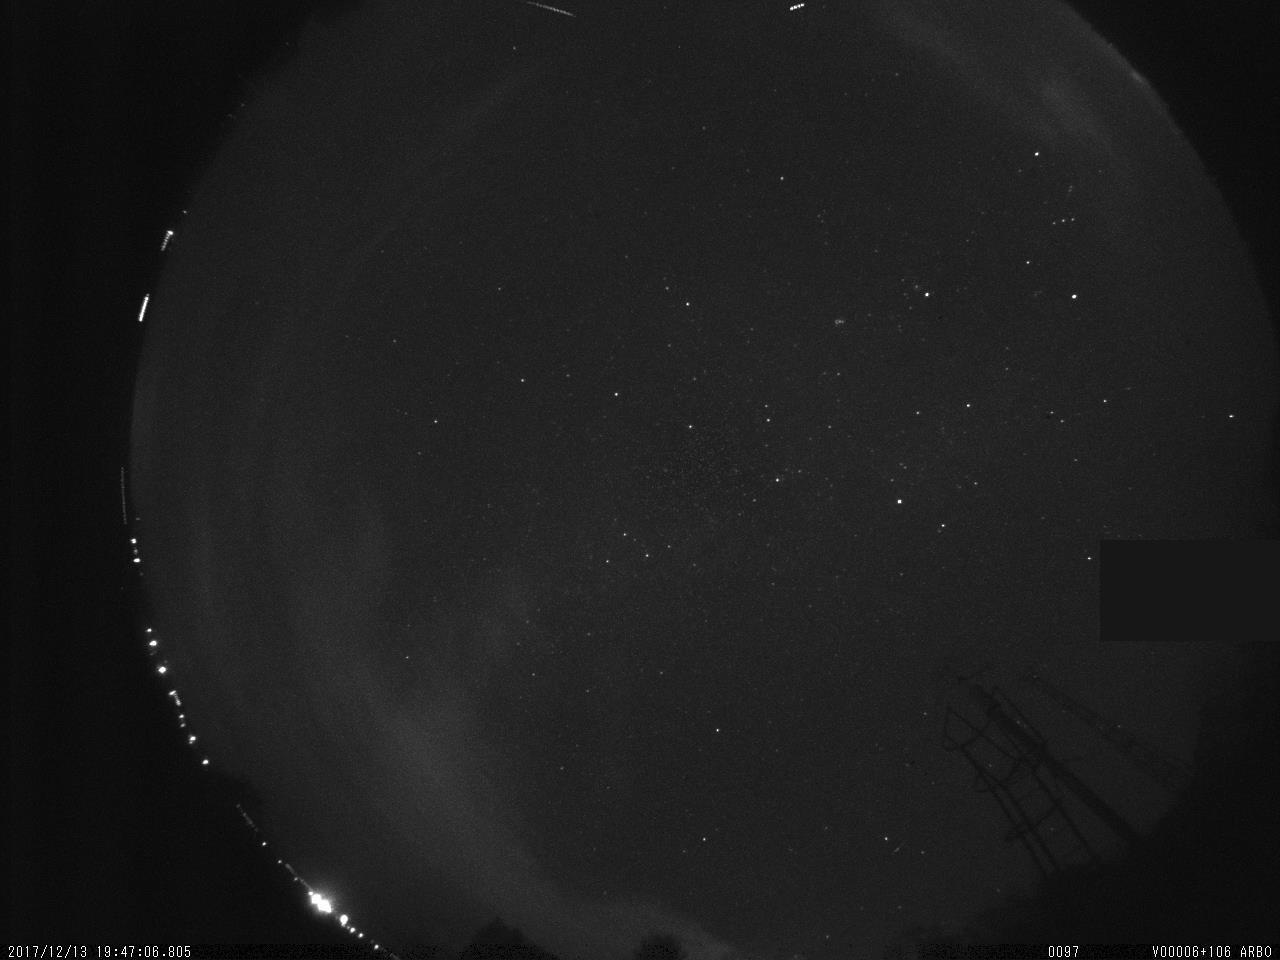meteor: (520, 0, 580, 29)
satelite: (779, 0, 817, 22)
